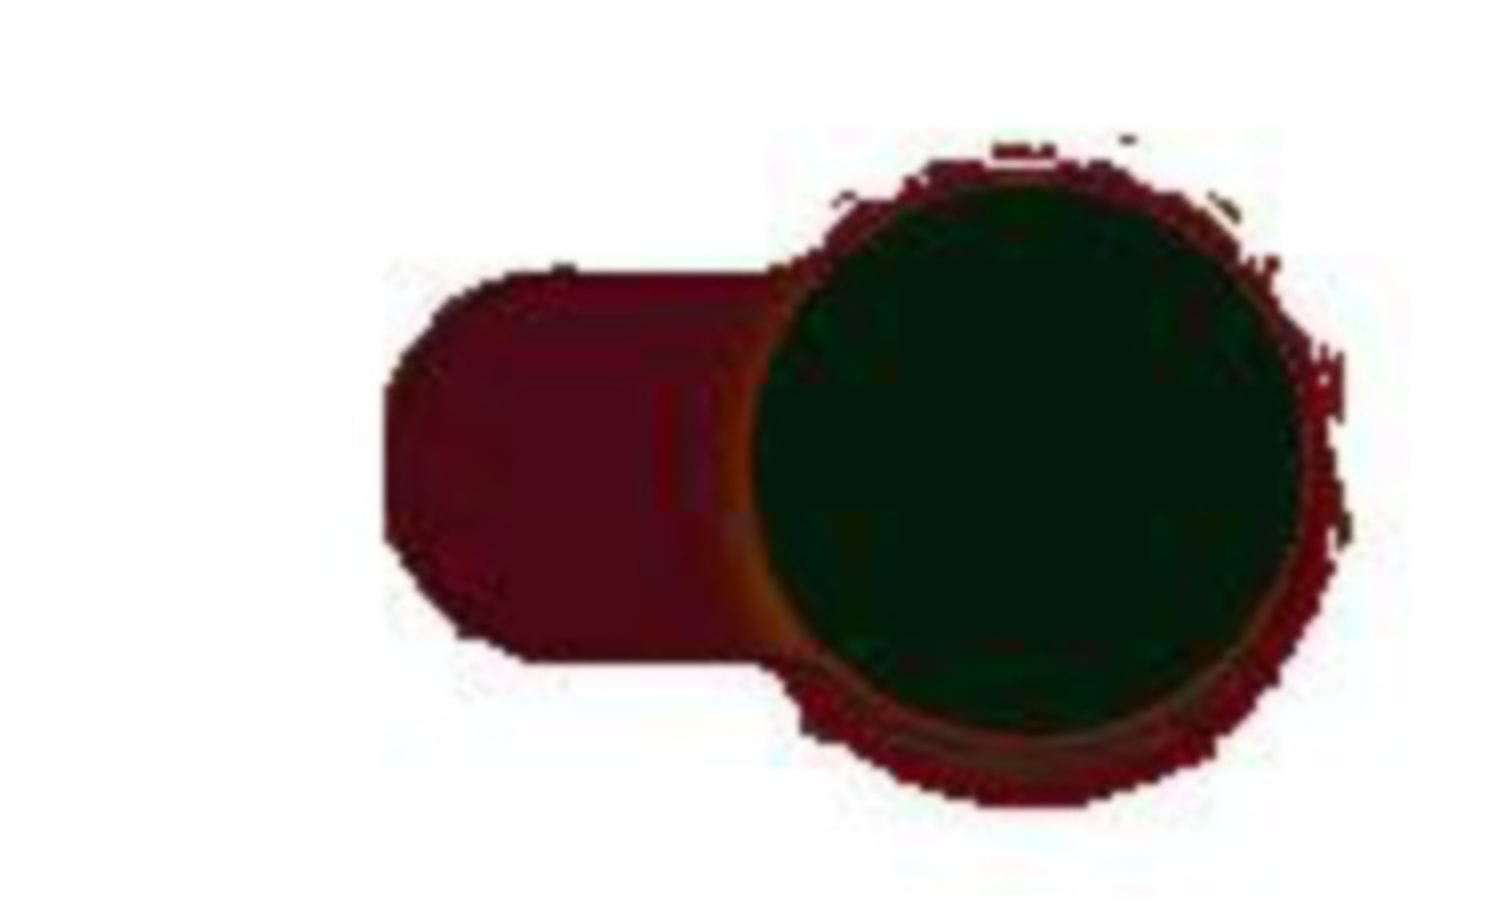Switch: (1, 1, 1487, 919)
